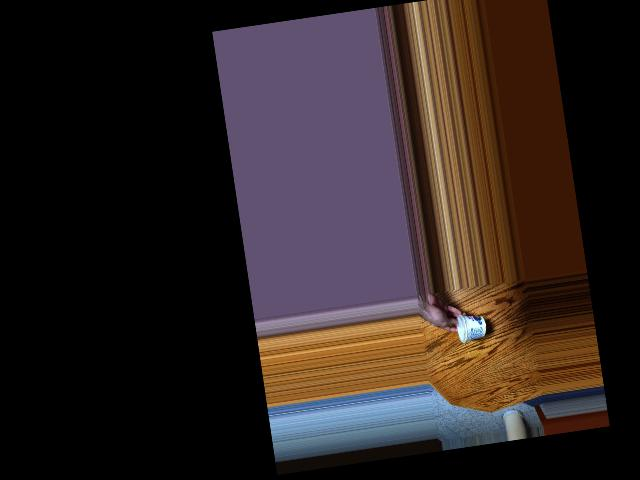cotage: (456, 316, 487, 348)
